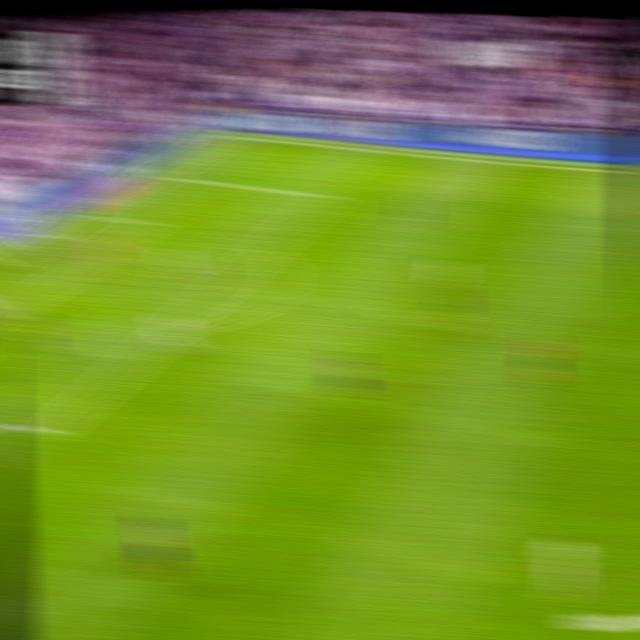bigarea_bottom_inner: (35, 418, 65, 445)
bigarea_top_inner: (314, 188, 341, 205)
bigarea_top_outter: (146, 166, 174, 181)
corner: (213, 130, 240, 140)
smallarea_top_inner: (134, 217, 159, 230)
top_arc_area_intersection: (253, 240, 280, 257)
